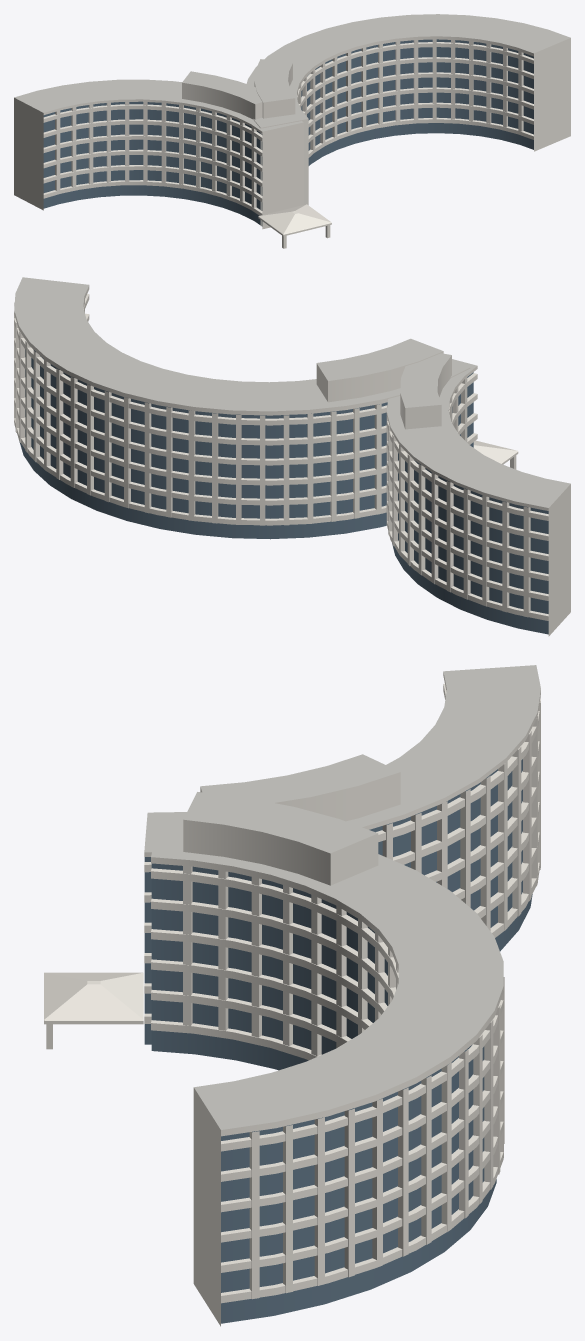
The model's file is dc-washington-hilton.glb.
3 views of the same model, one above another, from view 1: azimuth 30°, elevation 25°; view 2: azimuth 150°, elevation 25°; view 3: azimuth 270°, elevation 25° (orthographic). The views are drawn at different scales.
Parts seen in each view (by area): view 1: Washington Hilton; view 2: Washington Hilton; view 3: Washington Hilton.
Part boxes in pixels (x1,y1,x2,y2): Washington Hilton: [14, 14, 570, 248]; Washington Hilton: [14, 277, 570, 636]; Washington Hilton: [44, 665, 540, 1326].
Size of the model in its own units: 191 by 43.75 by 86.1.
